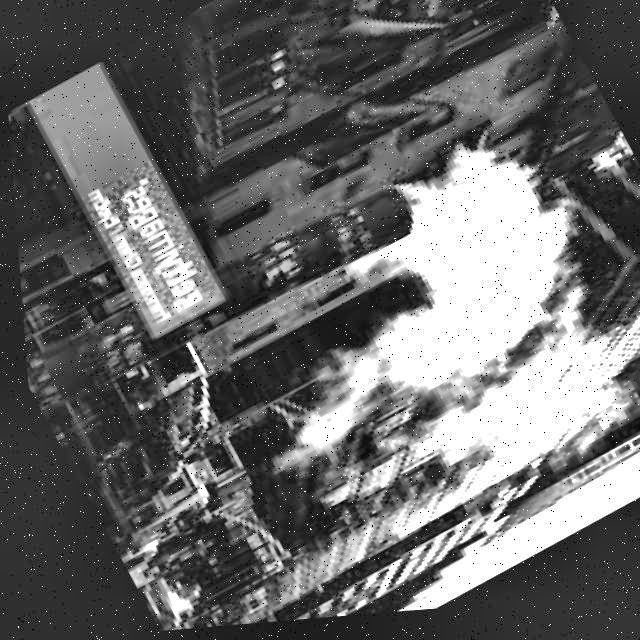Smoke: (218, 109, 640, 547)
